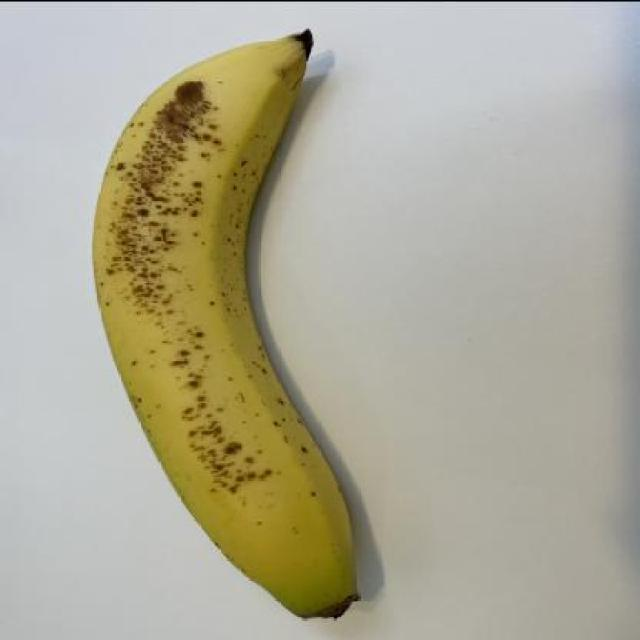Banana: (87, 26, 361, 622)
